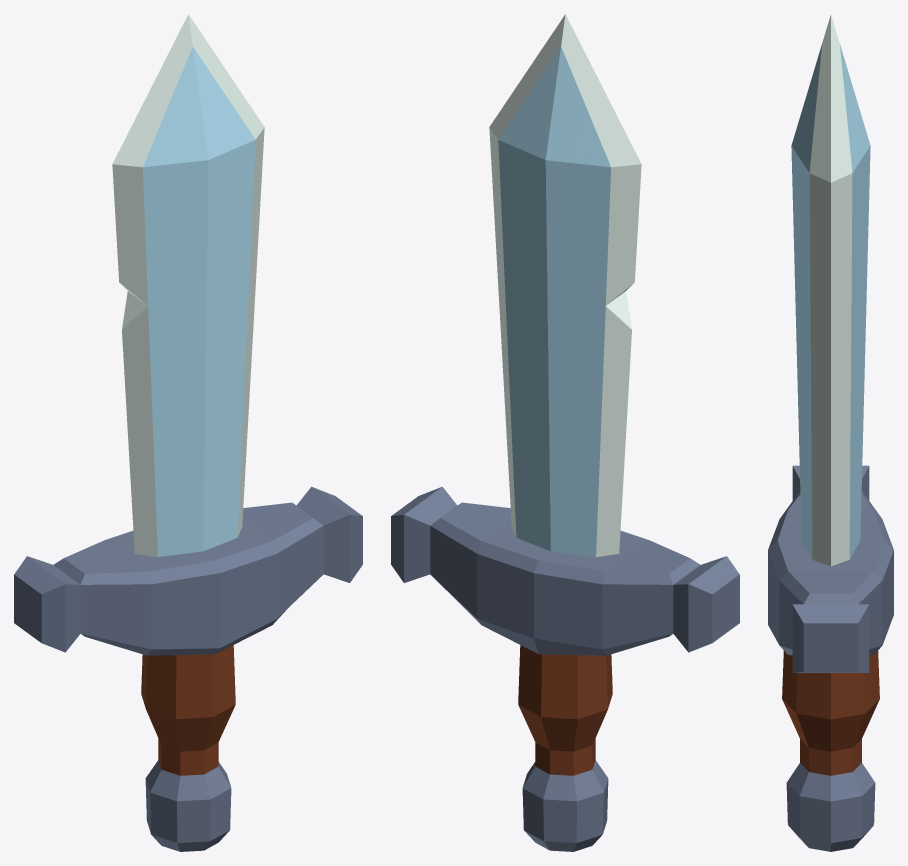
File: SM_Sword.fbx
3 renders of one model, left to right at view 1: azimuth 30°, elevation 25°; view 2: azimuth 150°, elevation 25°; view 3: azimuth 270°, elevation 25°, orthographic.
Parts seen in each view (by area): view 1: SM_Sword; view 2: SM_Sword; view 3: SM_Sword.
Part boxes in pixels (box(x1,y1,x2,y2)): SM_Sword: box(14, 14, 362, 851); SM_Sword: box(391, 14, 739, 851); SM_Sword: box(768, 15, 893, 851).
Bounding box in the file's own units: 43.77 × 107 × 14.85.
